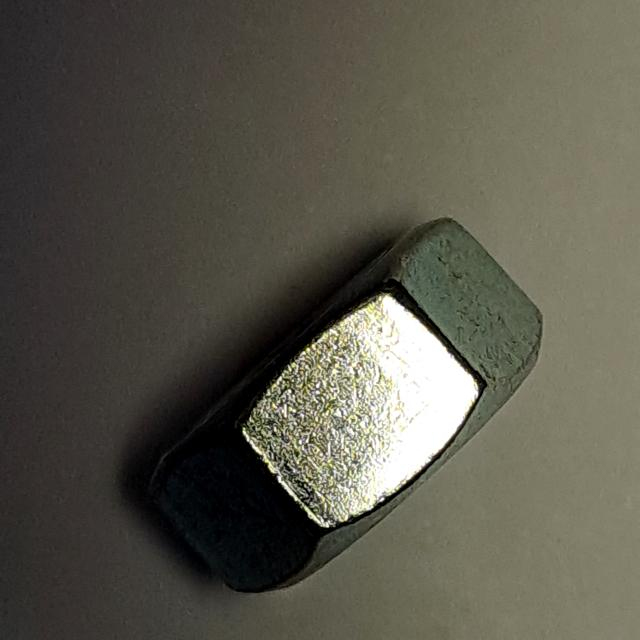Side_Excellent: (130, 205, 558, 604)
